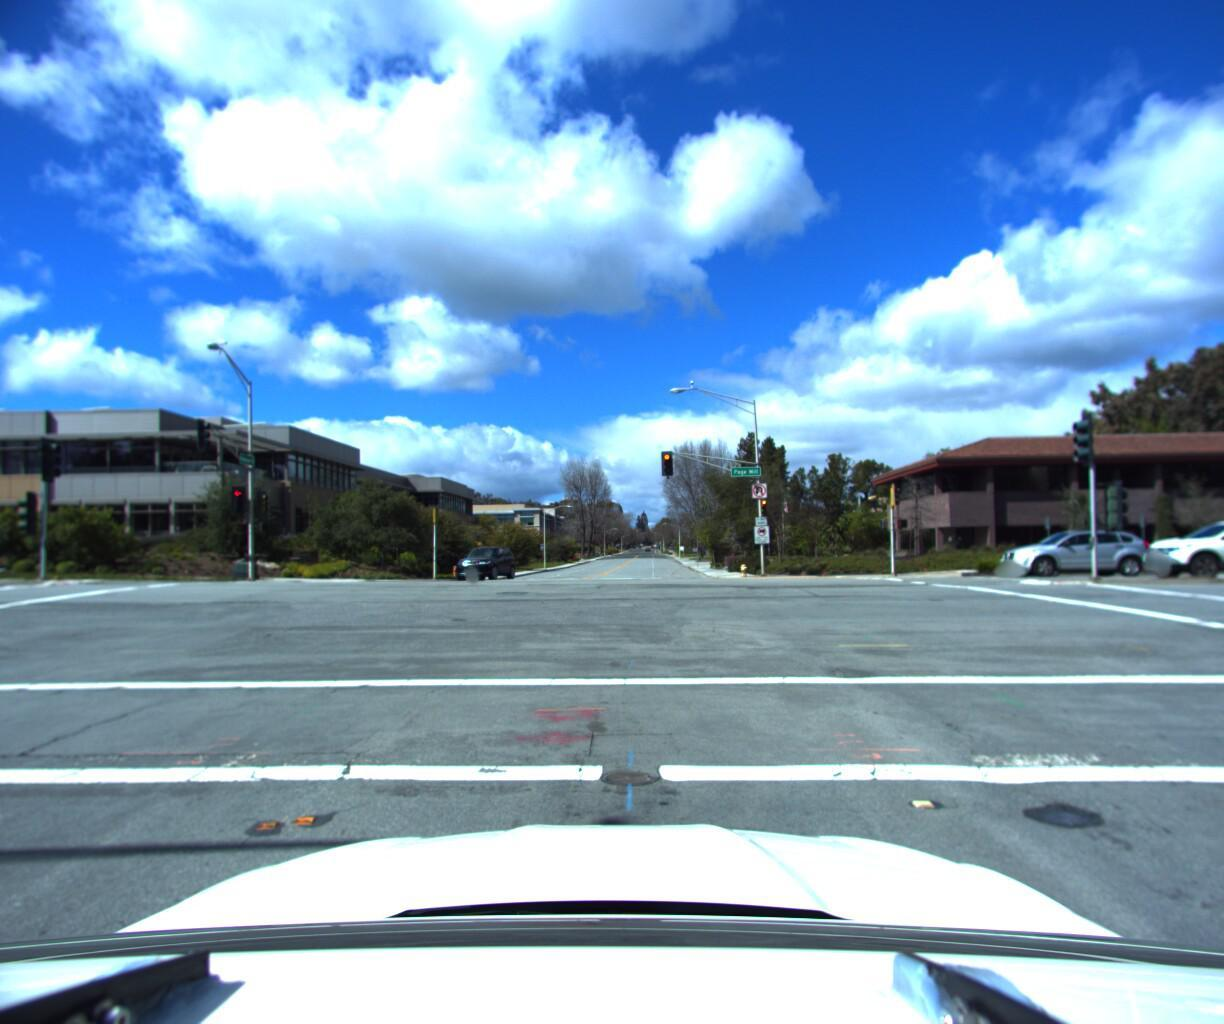car: (982, 526, 1150, 581), (1118, 510, 1224, 581), (448, 547, 526, 584)
